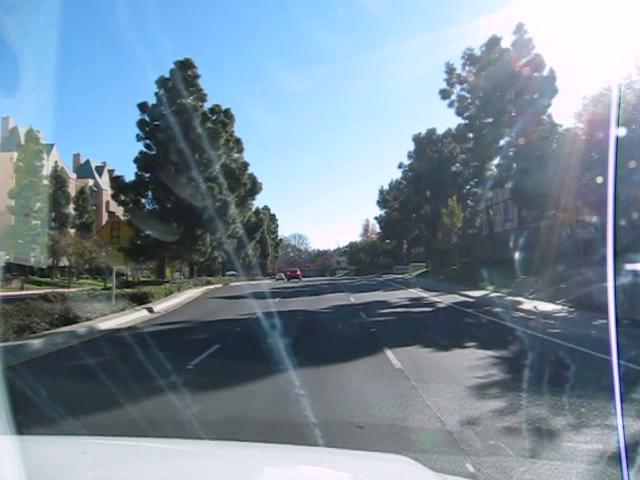signalAhead: (95, 214, 135, 251)
